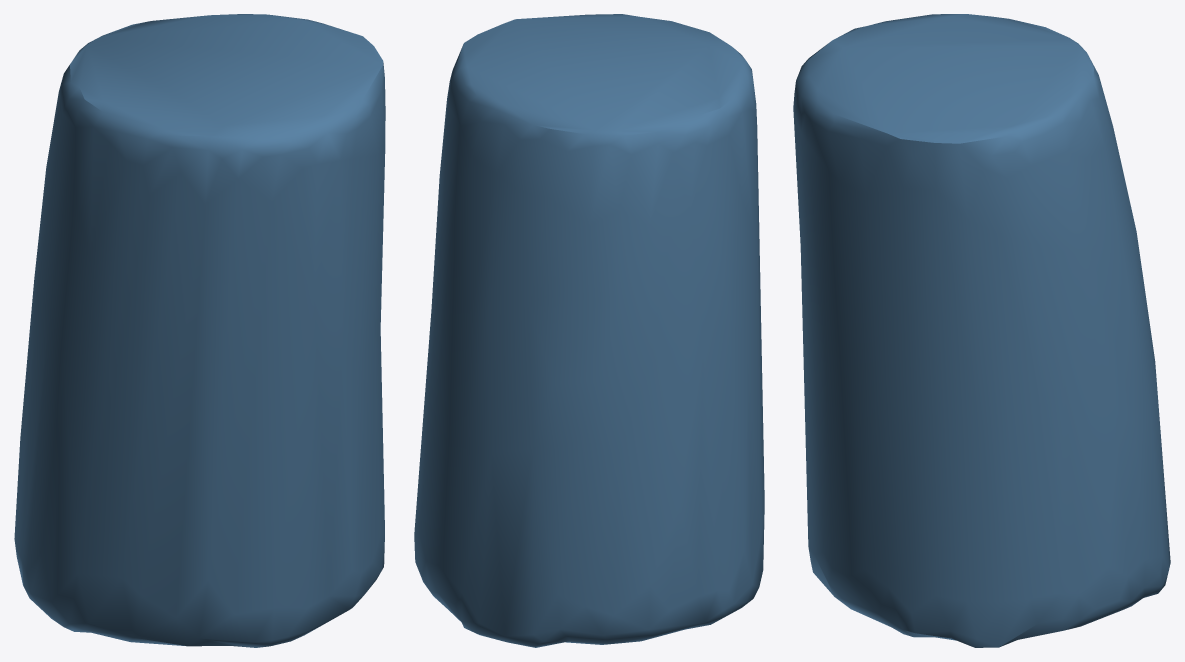
Rendered from superior_vena_cava.glb.
3 views of the same model, side by side, from view 1: azimuth 30°, elevation 25°; view 2: azimuth 150°, elevation 25°; view 3: azimuth 270°, elevation 25° (orthographic). The views are drawn at different scales.
Visible parts, largest first — view 1: Superior Vena Cava; view 2: Superior Vena Cava; view 3: Superior Vena Cava.
Part boxes in pixels (x1=…): Superior Vena Cava: x1=14, y1=14, x2=385, y2=647; Superior Vena Cava: x1=414, y1=14, x2=764, y2=647; Superior Vena Cava: x1=793, y1=14, x2=1170, y2=647.
Bounding box in the file's own units: 0.0225 × 0.035 × 0.0237.
